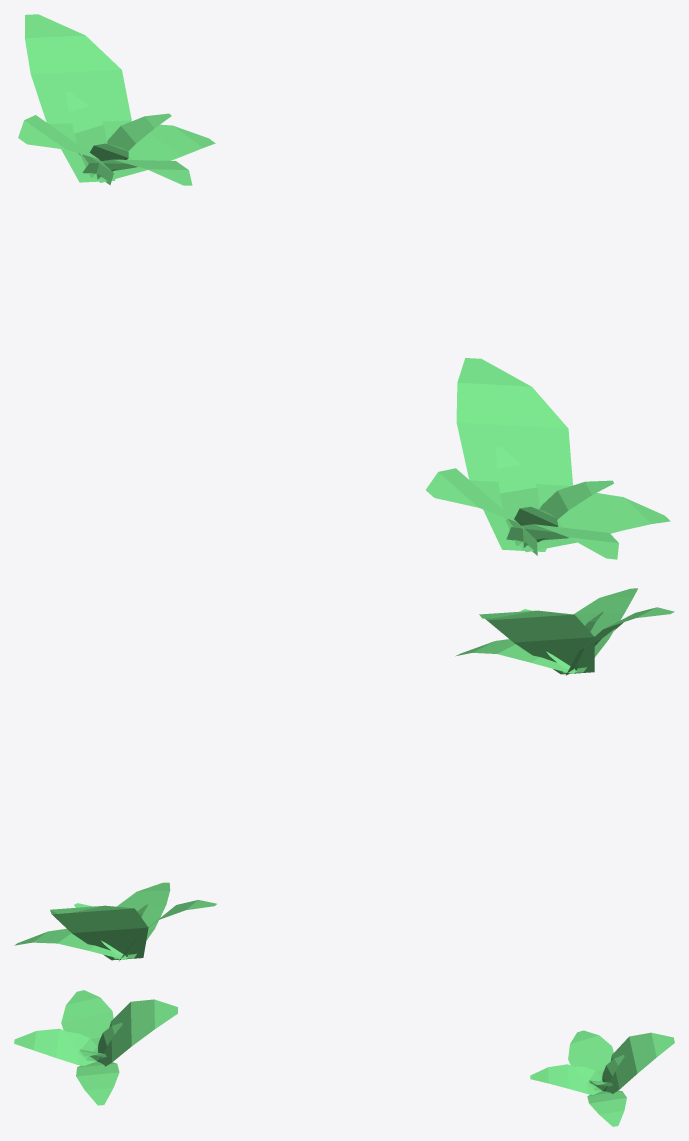
The model's file is plant.fbx.
3 views of the same model, one above another, from view 1: azimuth 30°, elevation 25°; view 2: azimuth 150°, elevation 25°; view 3: azimuth 270°, elevation 25° (orthographic). The views are drawn at different scales.
Parts seen in each view (by area): view 1: plant.005, plant.001; view 2: plant.005, plant.001; view 3: plant.005, plant.001.
Boxes of the visible parts, bbox=[...] form: plant.005: bbox=[426, 358, 670, 559]; plant.001: bbox=[18, 14, 215, 185]; plant.005: bbox=[455, 588, 674, 675]; plant.001: bbox=[14, 882, 216, 960]; plant.005: bbox=[14, 990, 177, 1105]; plant.001: bbox=[530, 1030, 674, 1126].
Bounding box in the file's own units: 1.1 × 0.5018 × 3.96.
